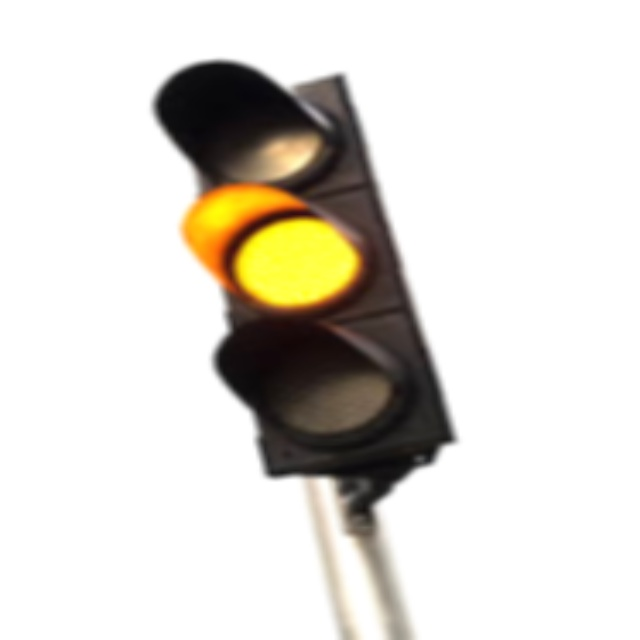yellow_light: (201, 196, 394, 319)
